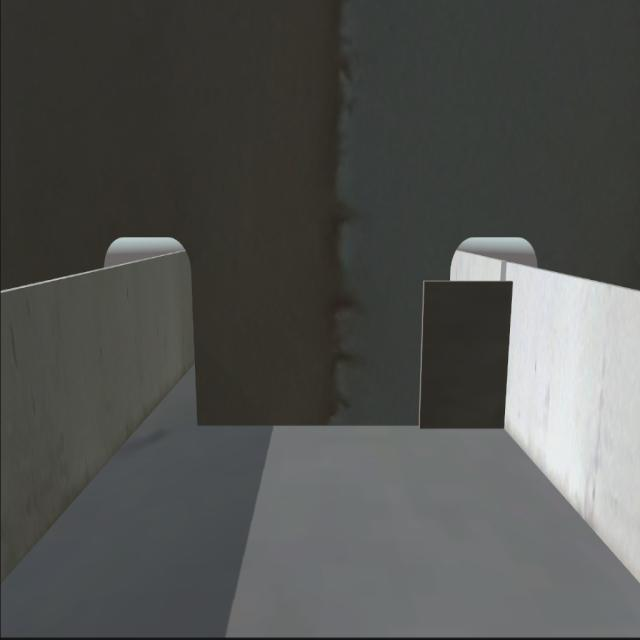fillet_yong_jeop_jang: (195, 409, 510, 439)
longi_yong_jeop_jang: (498, 277, 515, 449)
plate_CP01: (419, 279, 505, 432)
